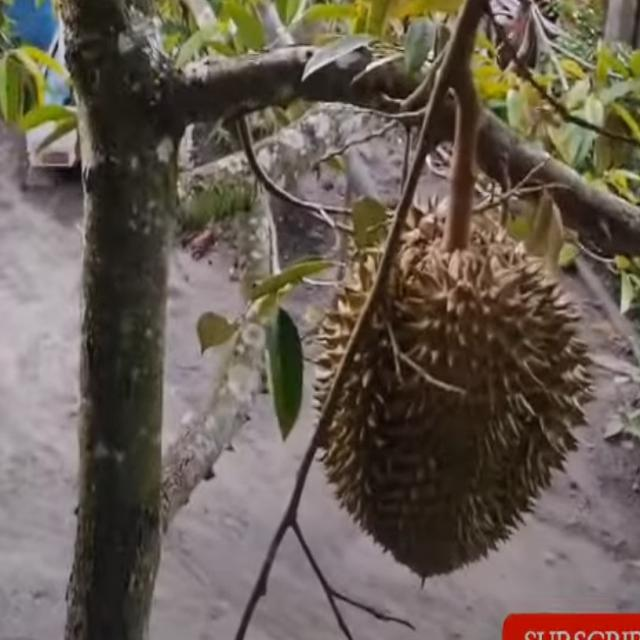mature: (307, 200, 599, 583)
